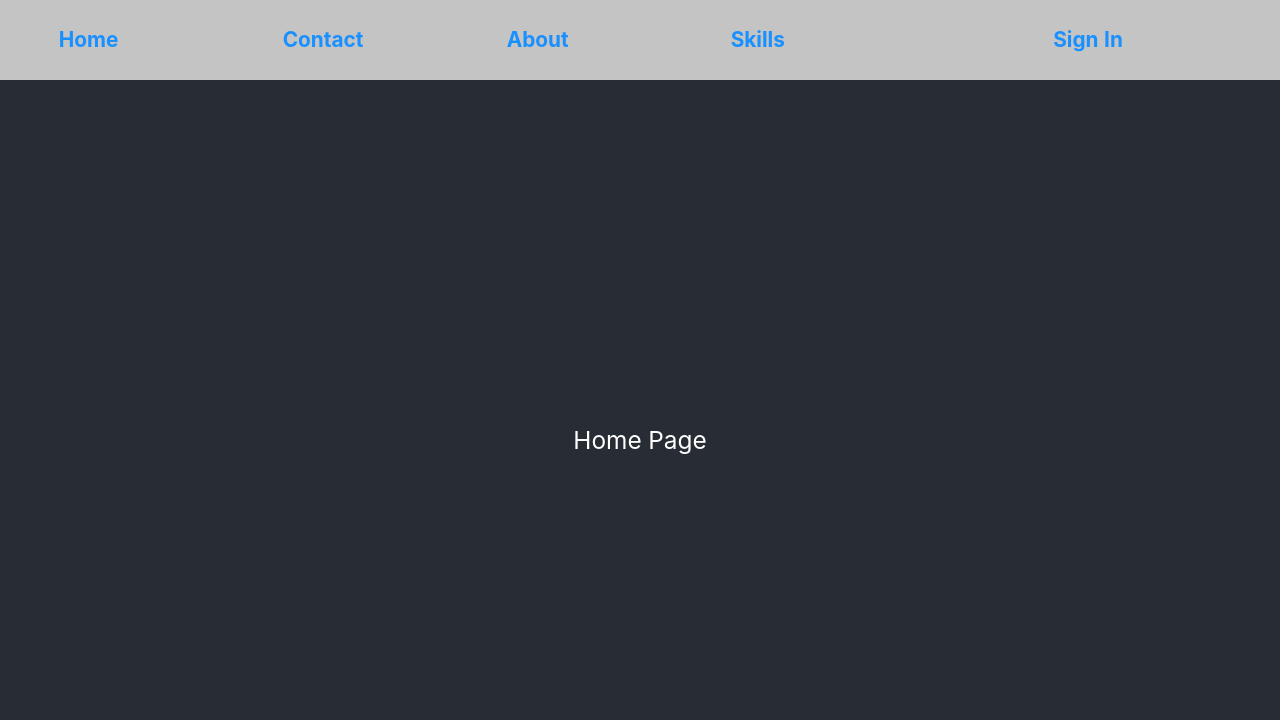
Test: Authentication flows › should display sign-in page
Step 1. Click the link "Sign In" → (1088, 41), box [1053,24,1123,57]
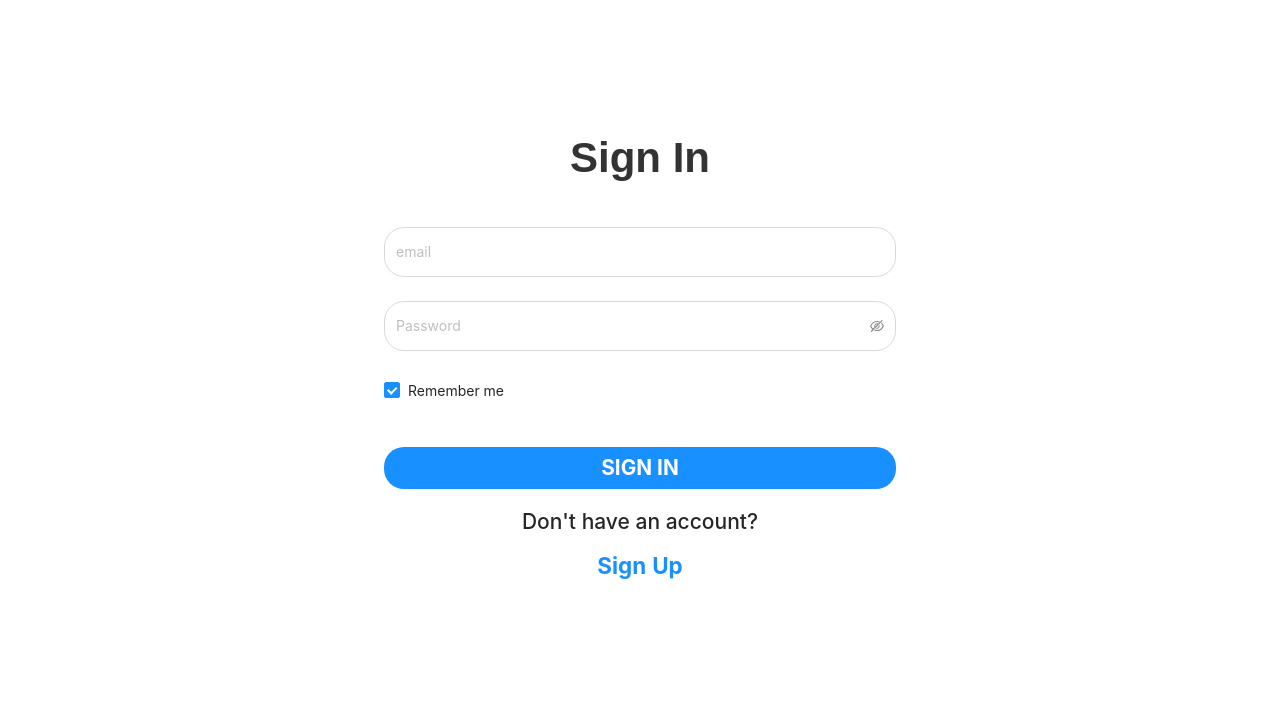
Check: the field with id "email" is shown, box [384,227,896,277]
Check: the password field with placeholder "Password" is shown, box [396,306,866,346]
